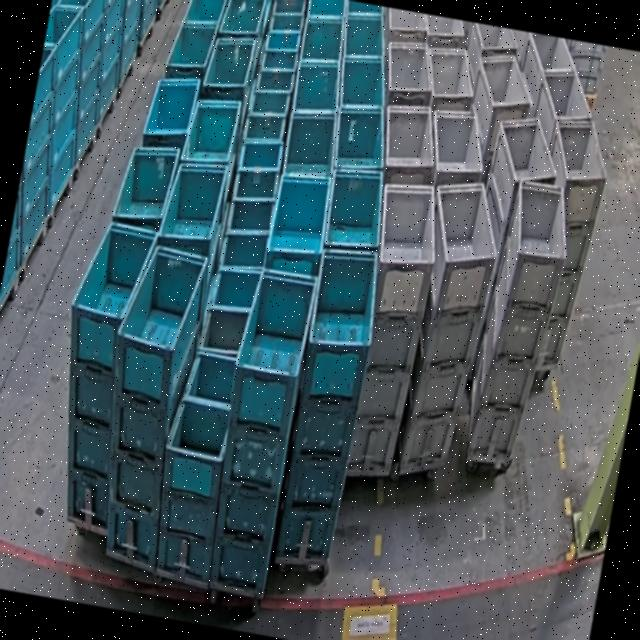4G: (386, 174, 509, 482), (458, 176, 578, 467), (334, 176, 447, 479), (512, 113, 616, 370)
B4: (78, 236, 216, 570), (194, 263, 320, 598), (31, 216, 160, 534), (266, 240, 388, 566)
B8: (141, 345, 250, 587)
